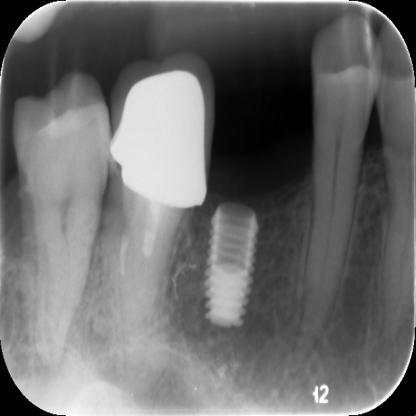Bicon: (201, 200, 263, 336)
